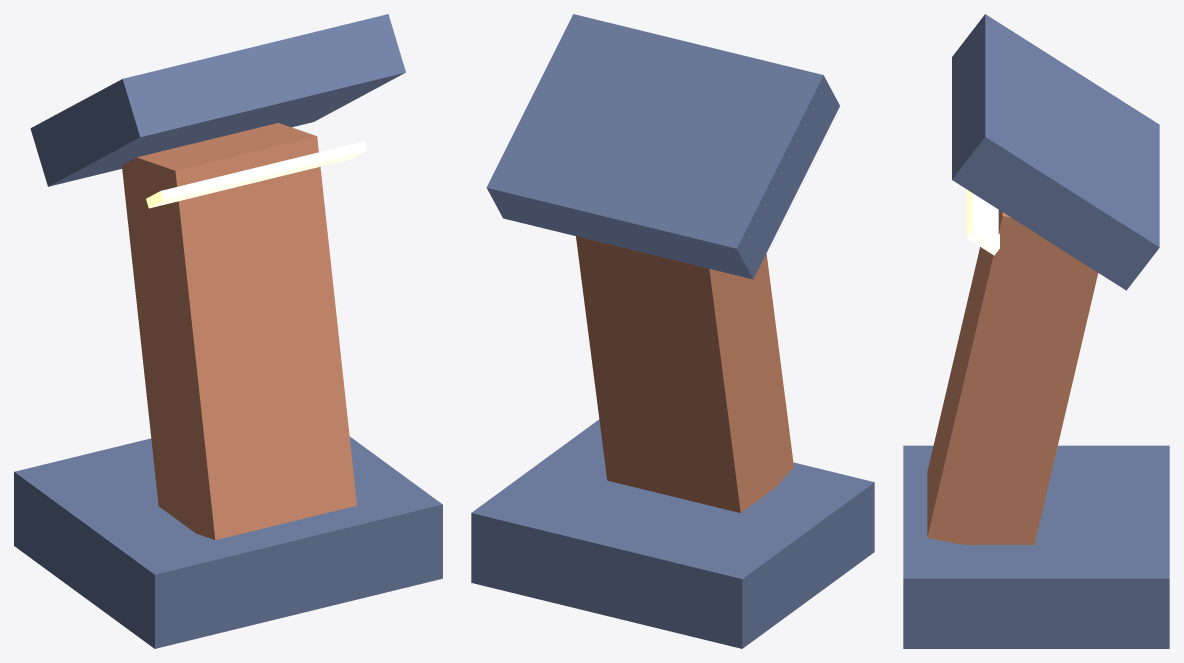
The model's file is terminal_console.glb.
3 renders of one model, left to right at view 1: azimuth 30°, elevation 25°; view 2: azimuth 150°, elevation 25°; view 3: azimuth 270°, elevation 25°, orthographic. The views are drawn at different scales.
Parts seen in each view (by area): view 1: Cube.001, Cube, Cube.002, Cube.003; view 2: Cube.002, Cube, Cube.001; view 3: Cube, Cube.001, Cube.002, Cube.003.
Part boxes in pixels (x1,y1,x2,y2): Cube.001: (122, 123, 356, 540); Cube: (14, 436, 442, 648); Cube.002: (30, 14, 405, 186); Cube.003: (146, 141, 367, 208); Cube.002: (486, 14, 839, 279); Cube: (471, 419, 874, 648); Cube.001: (576, 236, 793, 512); Cube: (903, 445, 1169, 648); Cube.001: (927, 210, 1098, 544); Cube.002: (952, 14, 1159, 290); Cube.003: (966, 189, 999, 255).
Bounding box in the file's own units: 0.65 × 1.16 × 0.55.
